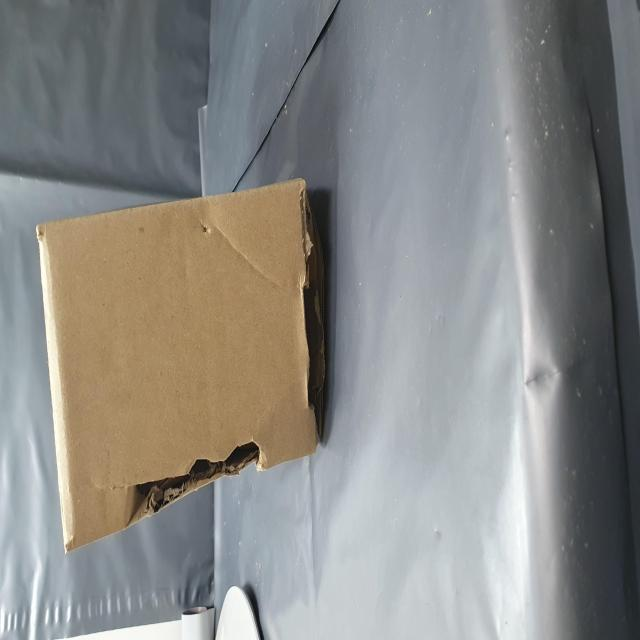damaged: (65, 229, 114, 489)
